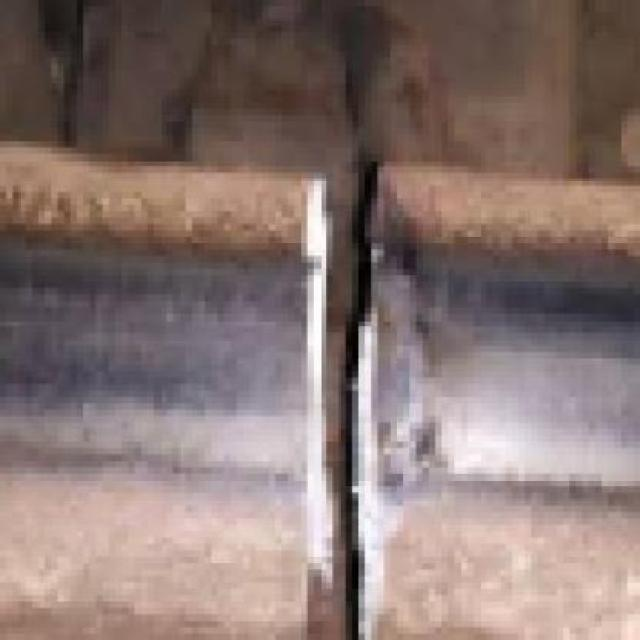defective: (196, 136, 506, 640)
